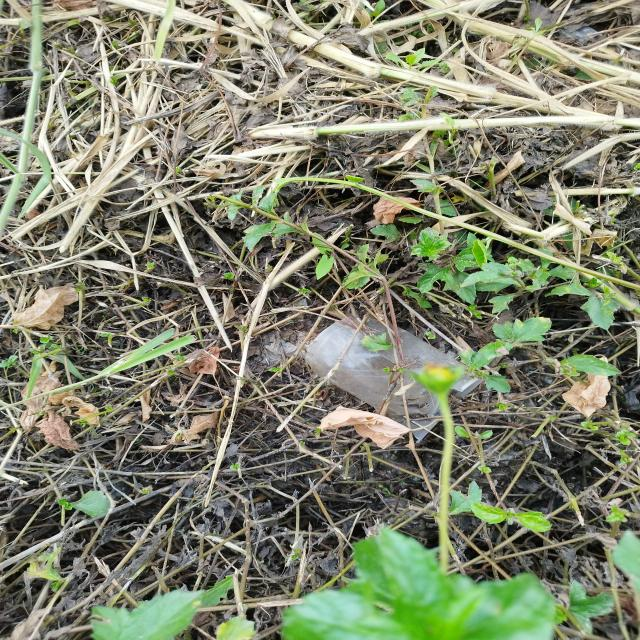plastic glass: (304, 317, 486, 443)
